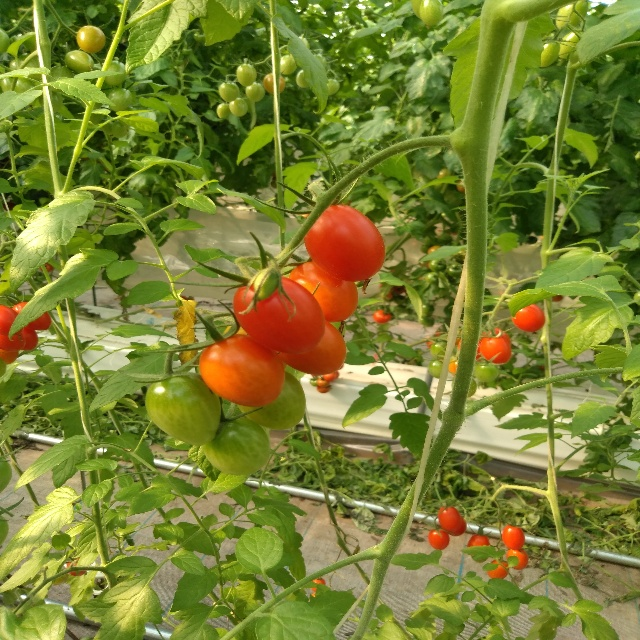l_fully_ripened: (233, 273, 327, 355), (304, 204, 386, 283), (12, 301, 52, 331), (510, 303, 546, 332), (478, 335, 511, 364), (0, 305, 23, 336), (502, 525, 525, 550), (438, 505, 460, 531), (428, 526, 450, 550), (445, 513, 466, 537), (0, 331, 25, 351), (20, 326, 38, 351), (466, 534, 490, 547)
l_green: (145, 371, 222, 447), (236, 370, 306, 431), (202, 416, 270, 477), (65, 50, 95, 73), (108, 88, 133, 113), (475, 361, 498, 382), (237, 63, 256, 87), (218, 82, 239, 103), (245, 81, 265, 102), (229, 97, 248, 116)
l_half_ripened: (198, 334, 285, 407), (288, 261, 358, 323), (274, 323, 347, 376), (76, 26, 106, 54), (506, 548, 528, 570), (487, 559, 509, 579)
